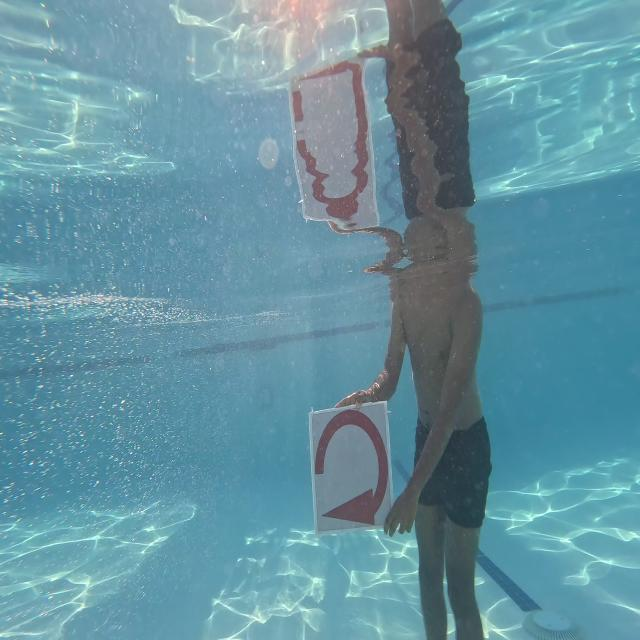red_side: (299, 400, 396, 532)
